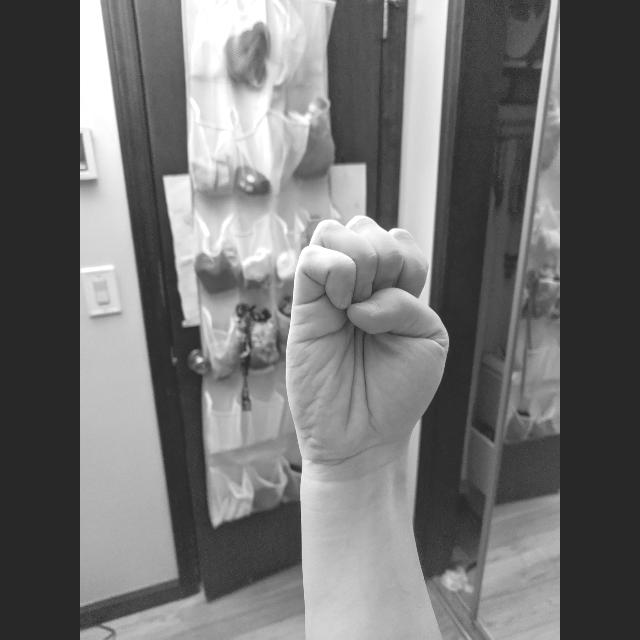E: (281, 210, 455, 470)
